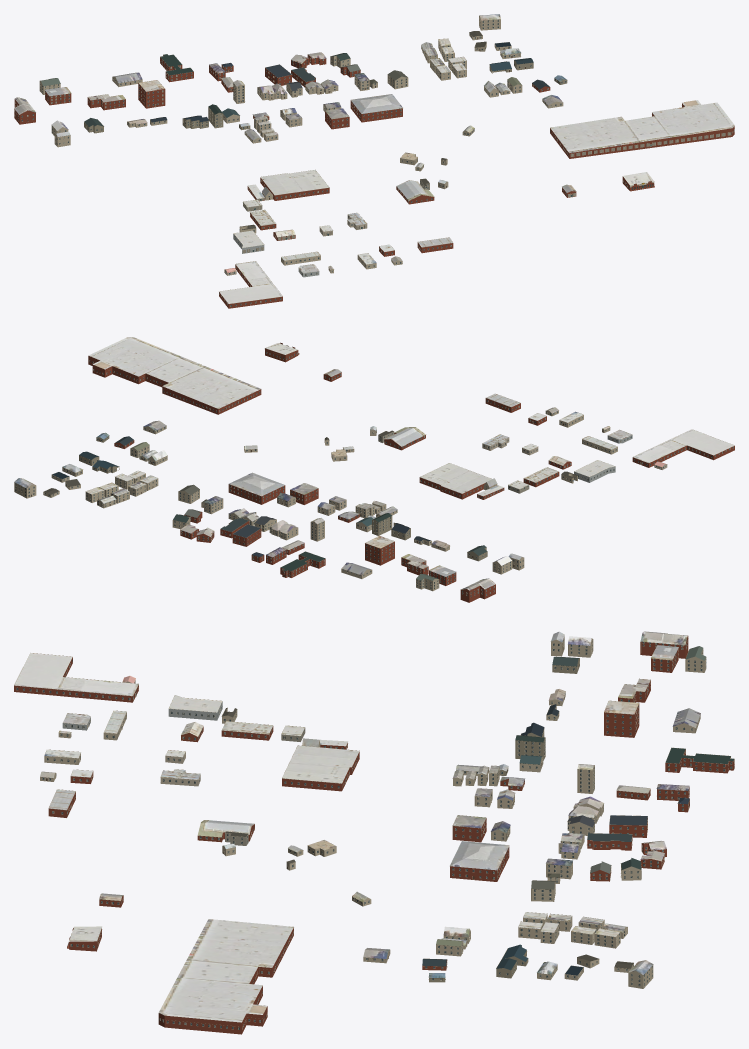
3 renders of one model, top to bottom at view 1: azimuth 30°, elevation 25°; view 2: azimuth 150°, elevation 25°; view 3: azimuth 270°, elevation 25°, orthographic. The views are drawn at different scales.
Parts seen in each view (by area): view 1: 1_0_313154910_0, 1_0_599494728_15, 1_0_629313664_29, 1_0_629313666_31; view 2: 1_0_313154910_0, 1_0_599494728_15, 1_0_629313664_29, 1_0_629313666_31; view 3: 1_0_313154910_0, 1_0_599494728_15, 1_0_629313664_29, 1_0_629313666_31.
Part boxes in pixels (box(x1,y1,x2,y2)): 1_0_313154910_0: box(14, 14, 734, 308); 1_0_599494728_15: box(39, 15, 563, 273); 1_0_629313664_29: box(40, 31, 549, 229); 1_0_629313666_31: box(84, 60, 567, 133); 1_0_313154910_0: box(14, 337, 734, 602); 1_0_599494728_15: box(14, 410, 617, 591); 1_0_629313664_29: box(44, 430, 577, 580); 1_0_629313666_31: box(79, 436, 487, 561); 1_0_313154910_0: box(14, 631, 734, 1034); 1_0_599494728_15: box(40, 636, 706, 988); 1_0_629313664_29: box(222, 646, 734, 975); 1_0_629313666_31: box(429, 658, 579, 982).
Bounding box in the file's own units: 624 × 40.2 × 500.
22 materials, 1 textured.
